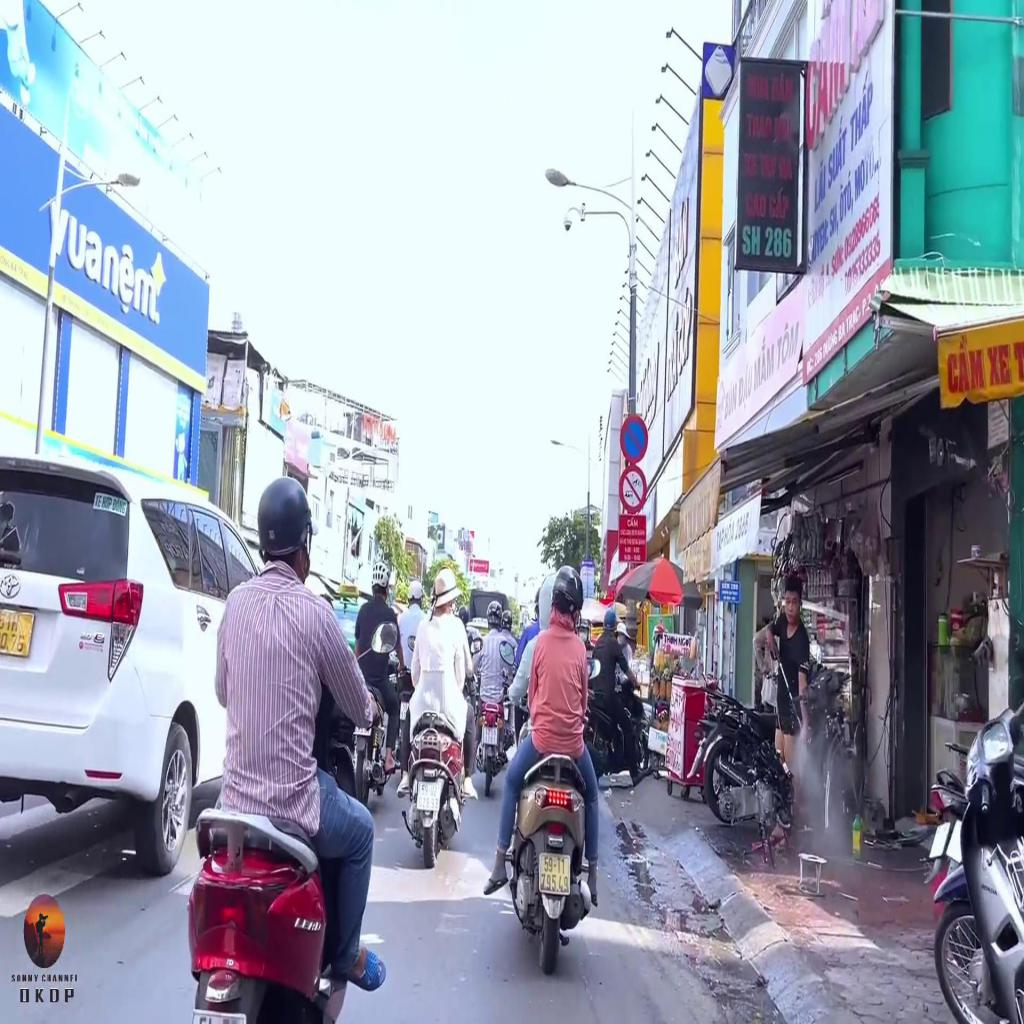cam_cac_loai_xe_3_banh: (618, 463, 648, 514)
cam_do_xe: (620, 414, 648, 464)
